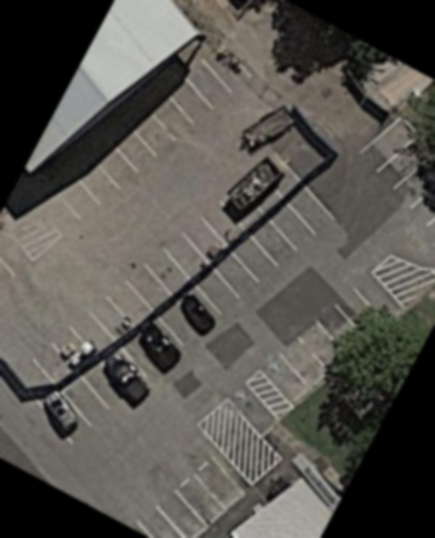parkingspot: (28, 181, 339, 446), (44, 37, 255, 225), (65, 198, 250, 356), (258, 268, 407, 407), (127, 449, 250, 538), (356, 114, 435, 241), (223, 379, 281, 438), (0, 222, 37, 293), (59, 385, 62, 388)
